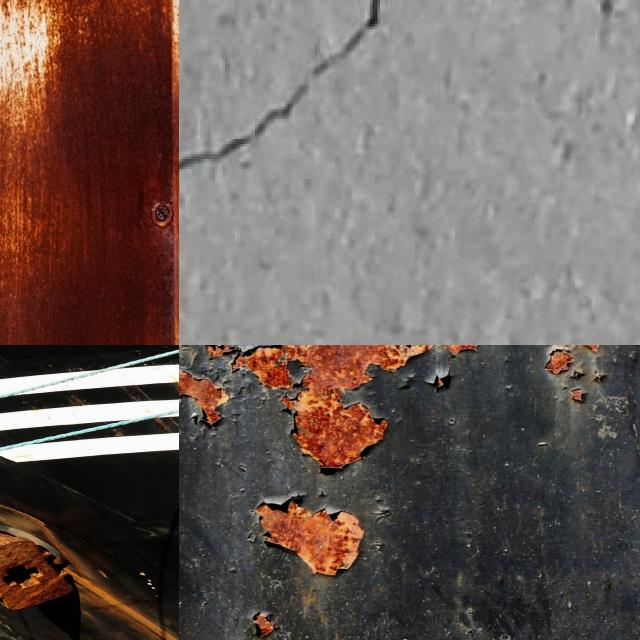Crack: (179, 0, 375, 169)
Uniform Corrosion: (0, 0, 179, 345), (237, 345, 479, 468), (254, 491, 365, 576), (71, 571, 179, 640), (0, 534, 72, 610), (179, 365, 228, 427), (545, 350, 573, 374)
